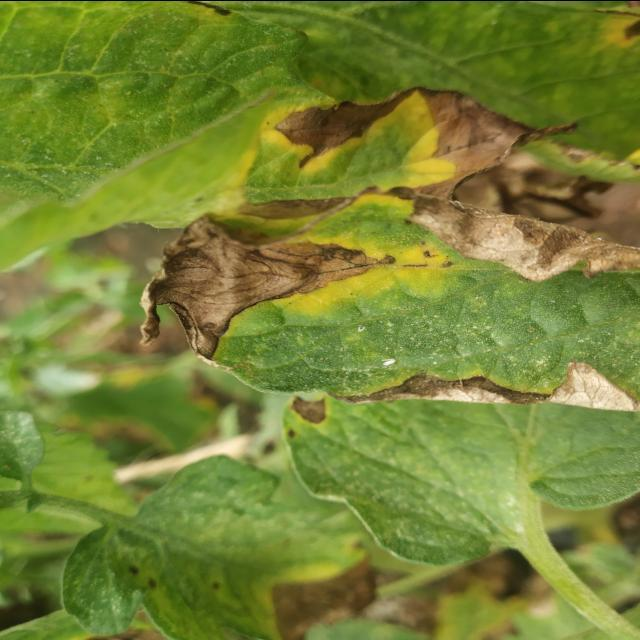Tomato mosaic virus leaf: (134, 184, 640, 416)
